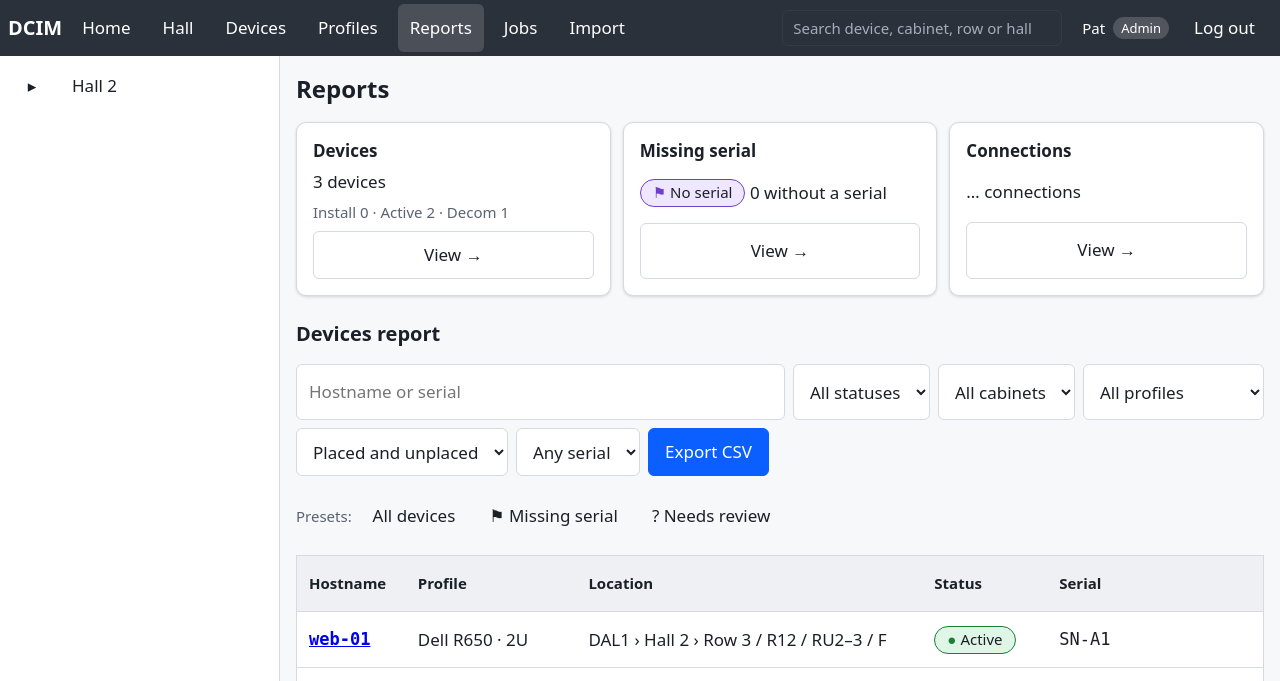
Test: csv › Needs review preset sends needs_review=true and shows the badge
Click the button "? Needs review": x=711, y=516 left=635, top=492, right=787, bottom=540
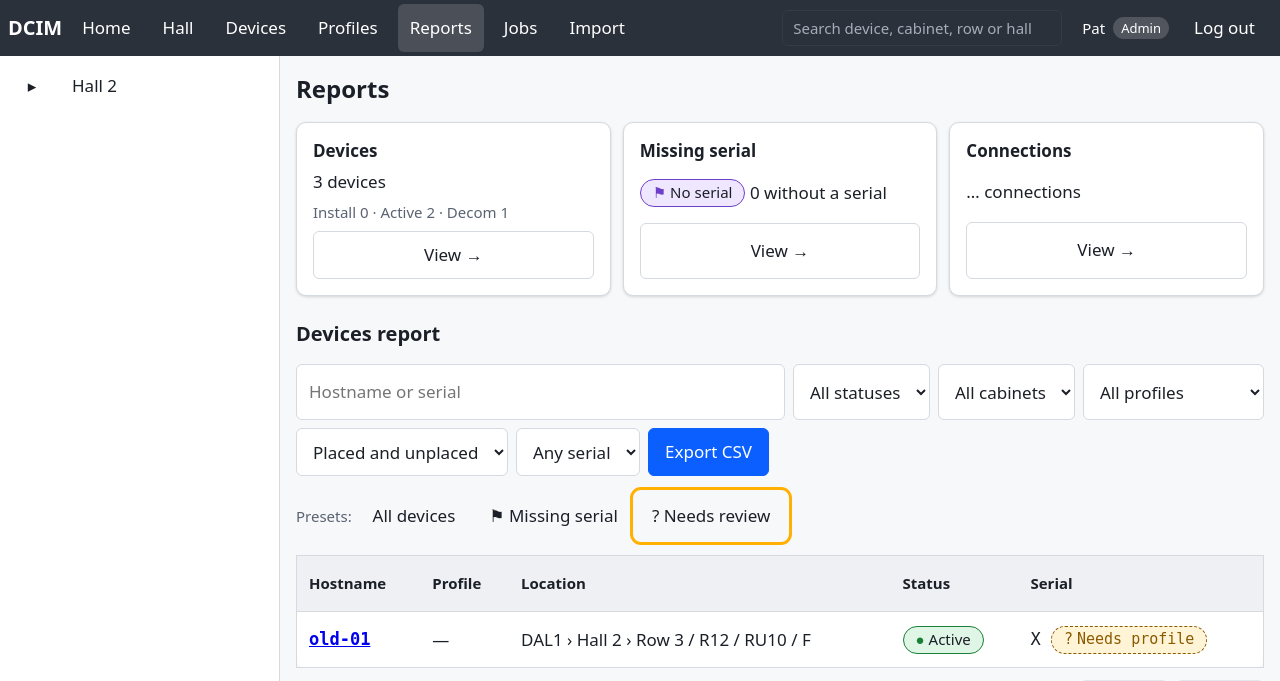
Expected: the link "old-01" is shown, left=309, top=629, right=370, bottom=649
Now the link "web-01" is gone
